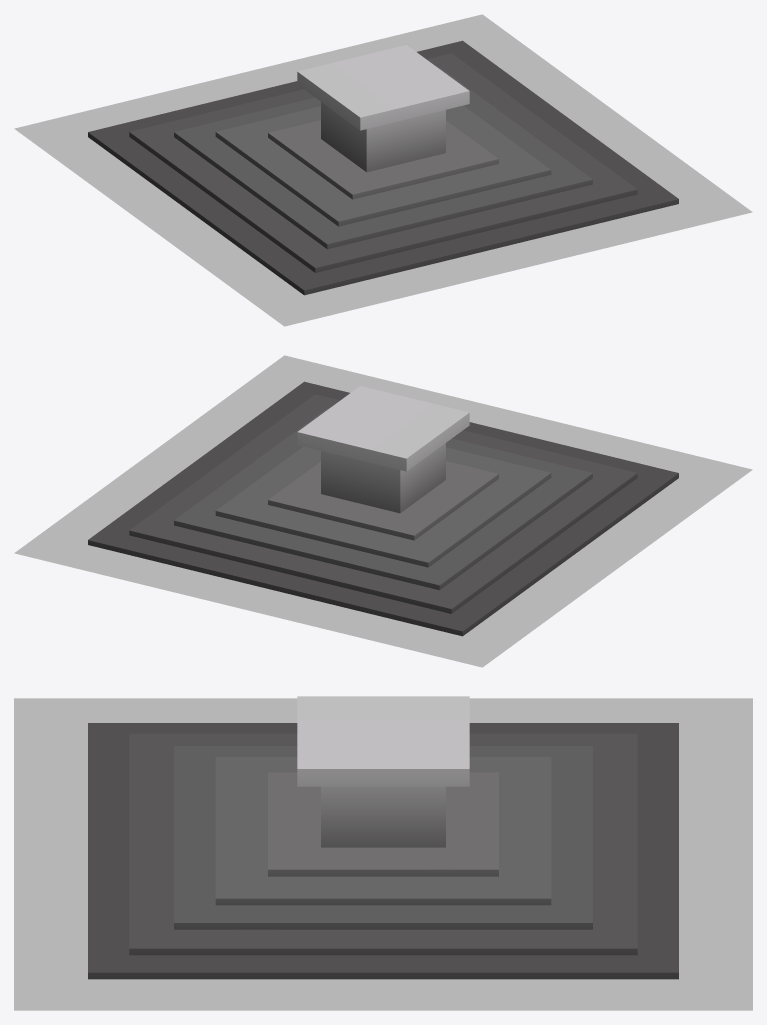
File: Podium.fbx
The picture shows the model from 3 angles, top to bottom: view 1: azimuth 30°, elevation 25°; view 2: azimuth 150°, elevation 25°; view 3: azimuth 270°, elevation 25°; orthographic projection. The views are drawn at different scales.
Visible parts, largest first — view 1: Podium, Monument_BG; view 2: Podium, Monument_BG; view 3: Podium, Monument_BG.
Boxes of the visible parts, box(x1,y1,x2,y2) form: Podium: box(88, 40, 678, 295); Monument_BG: box(14, 14, 752, 326); Podium: box(88, 381, 678, 636); Monument_BG: box(14, 355, 752, 667); Podium: box(88, 696, 678, 979); Monument_BG: box(14, 698, 752, 1010).
Size of the model in its own units: 2000 by 364 by 2000.
